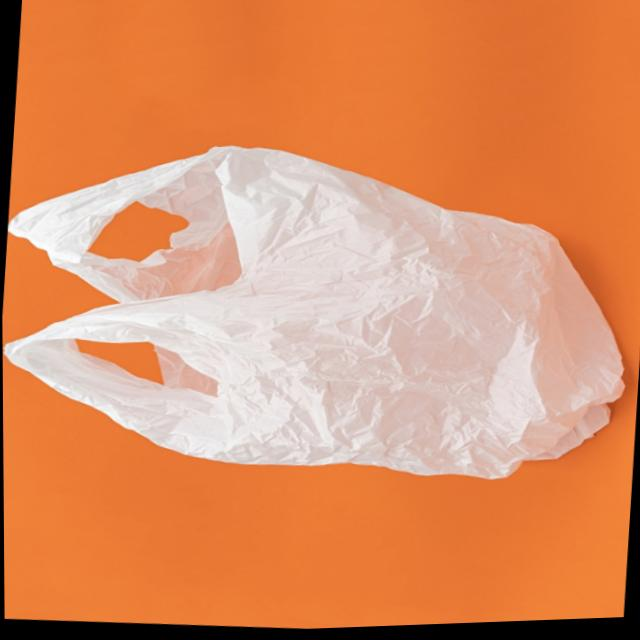plastic_bag: (1, 116, 640, 508)
